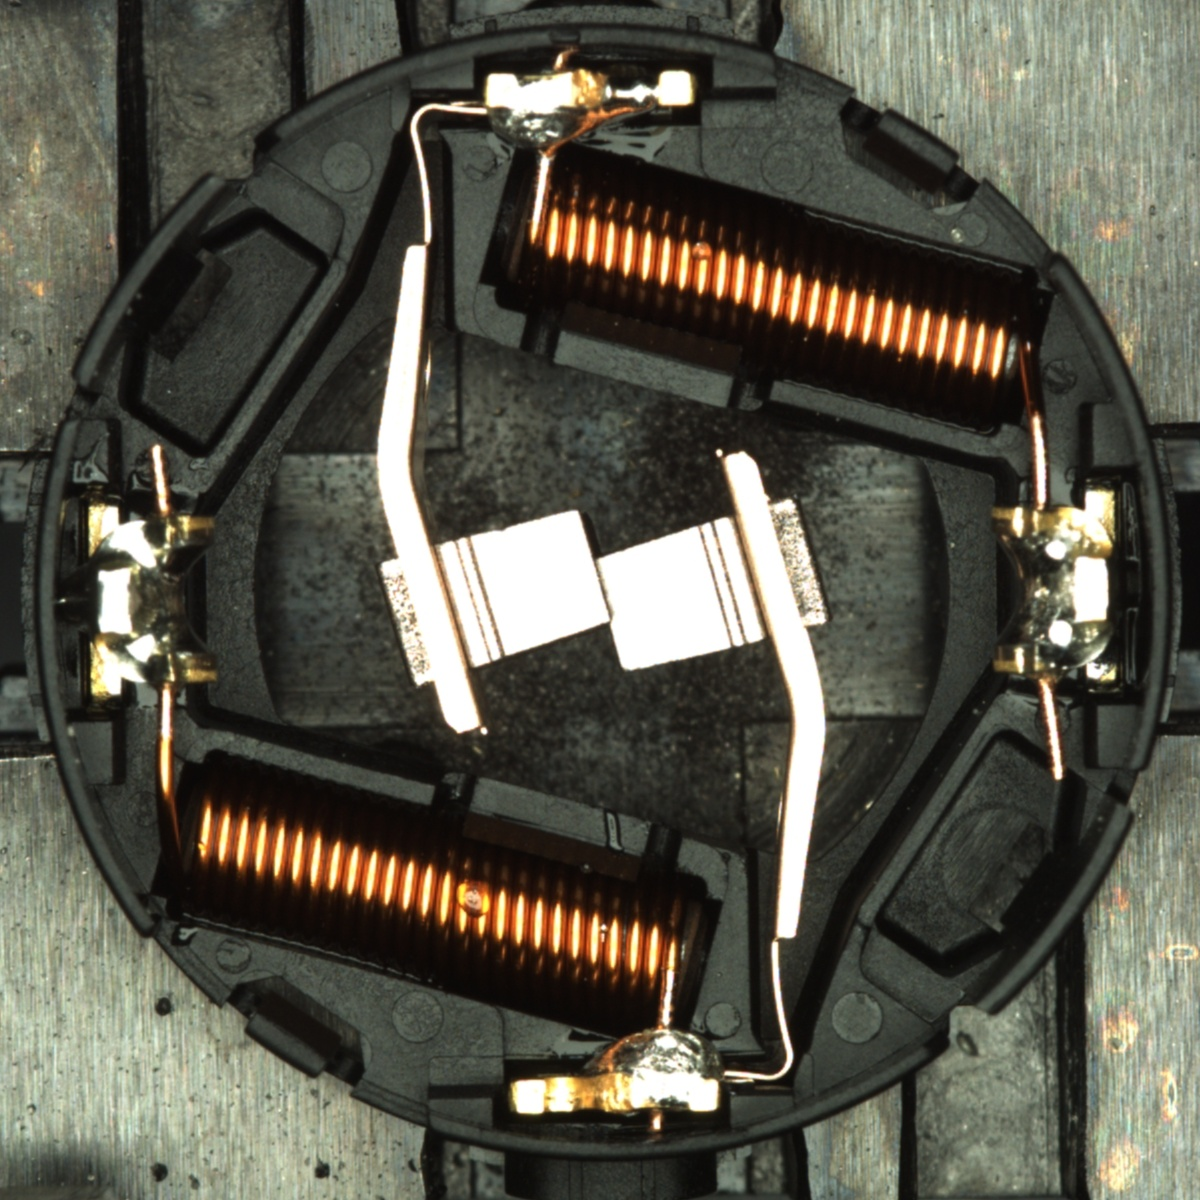1: (713, 927, 943, 1152), (255, 30, 484, 254)
2: (713, 30, 943, 254), (255, 927, 484, 1152)
3: (943, 702, 1171, 927), (25, 254, 255, 478)
4: (713, 702, 943, 927), (255, 254, 484, 478)
5: (484, 142, 713, 366), (484, 815, 713, 1040)
6: (255, 702, 484, 927), (713, 254, 943, 478)
7: (25, 702, 255, 927), (943, 254, 1171, 478)
cacbon: (398, 498, 799, 684)
chau_dien: (82, 499, 221, 699), (984, 489, 1122, 686)
tay_choi: (505, 1021, 723, 1119), (482, 64, 699, 160)
thanh_de: (954, 785, 1142, 1032), (59, 162, 245, 405)
vun_chi: (48, 562, 93, 626)
